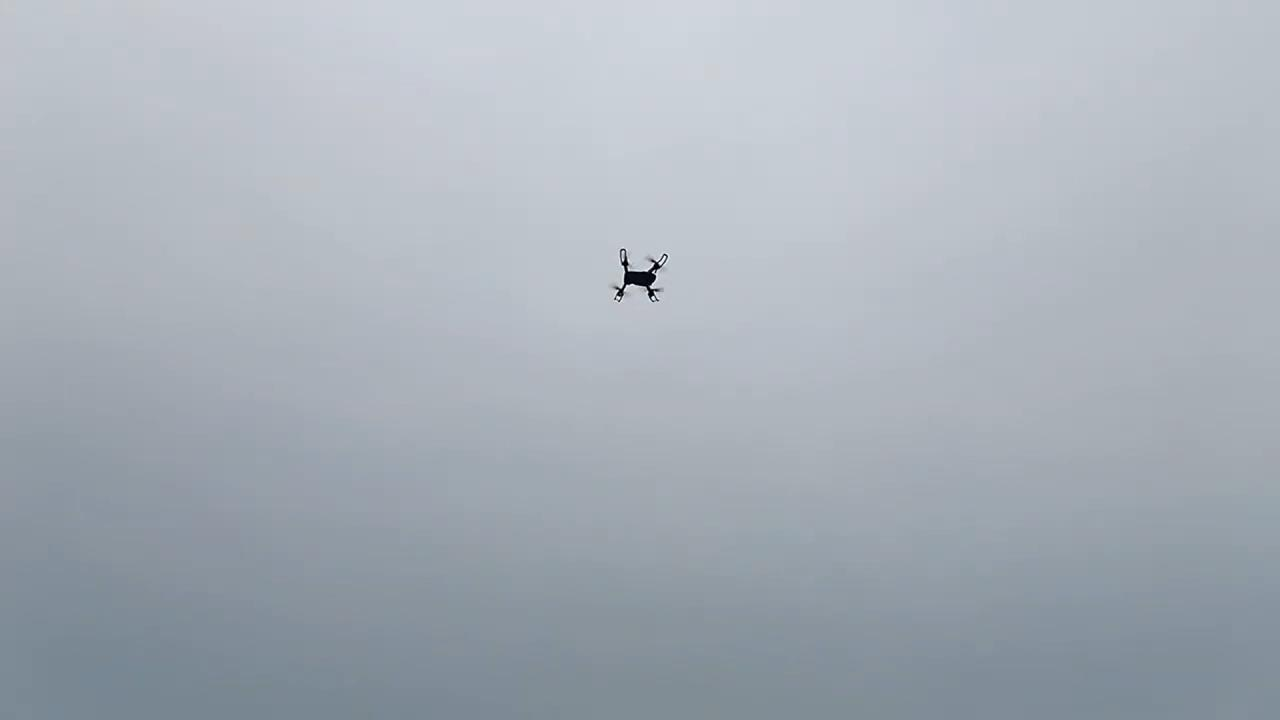Drone: (604, 241, 673, 312)
